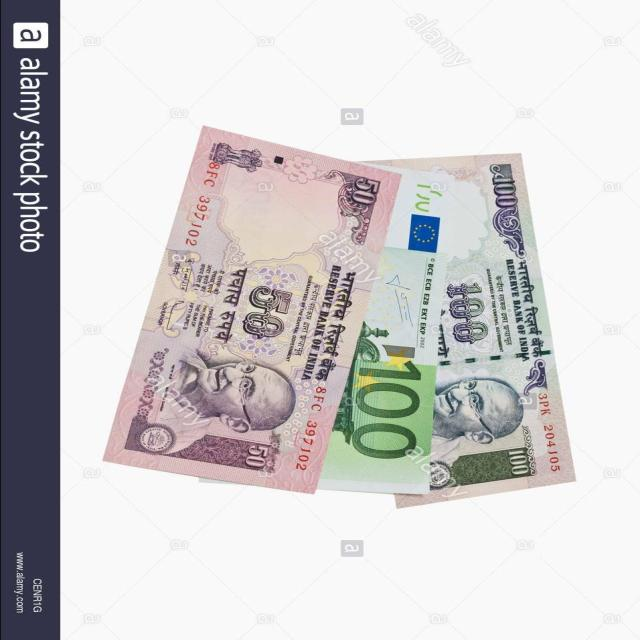50IndianRupees: (115, 127, 398, 494)
